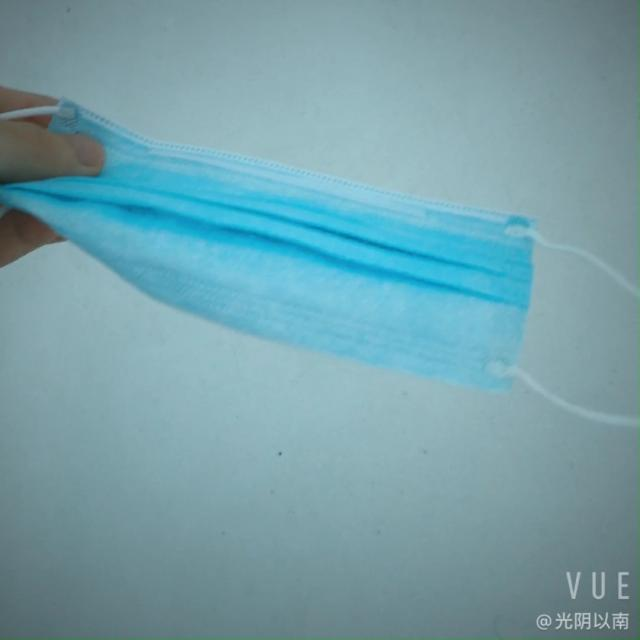non-organic waste: (9, 89, 544, 372)
